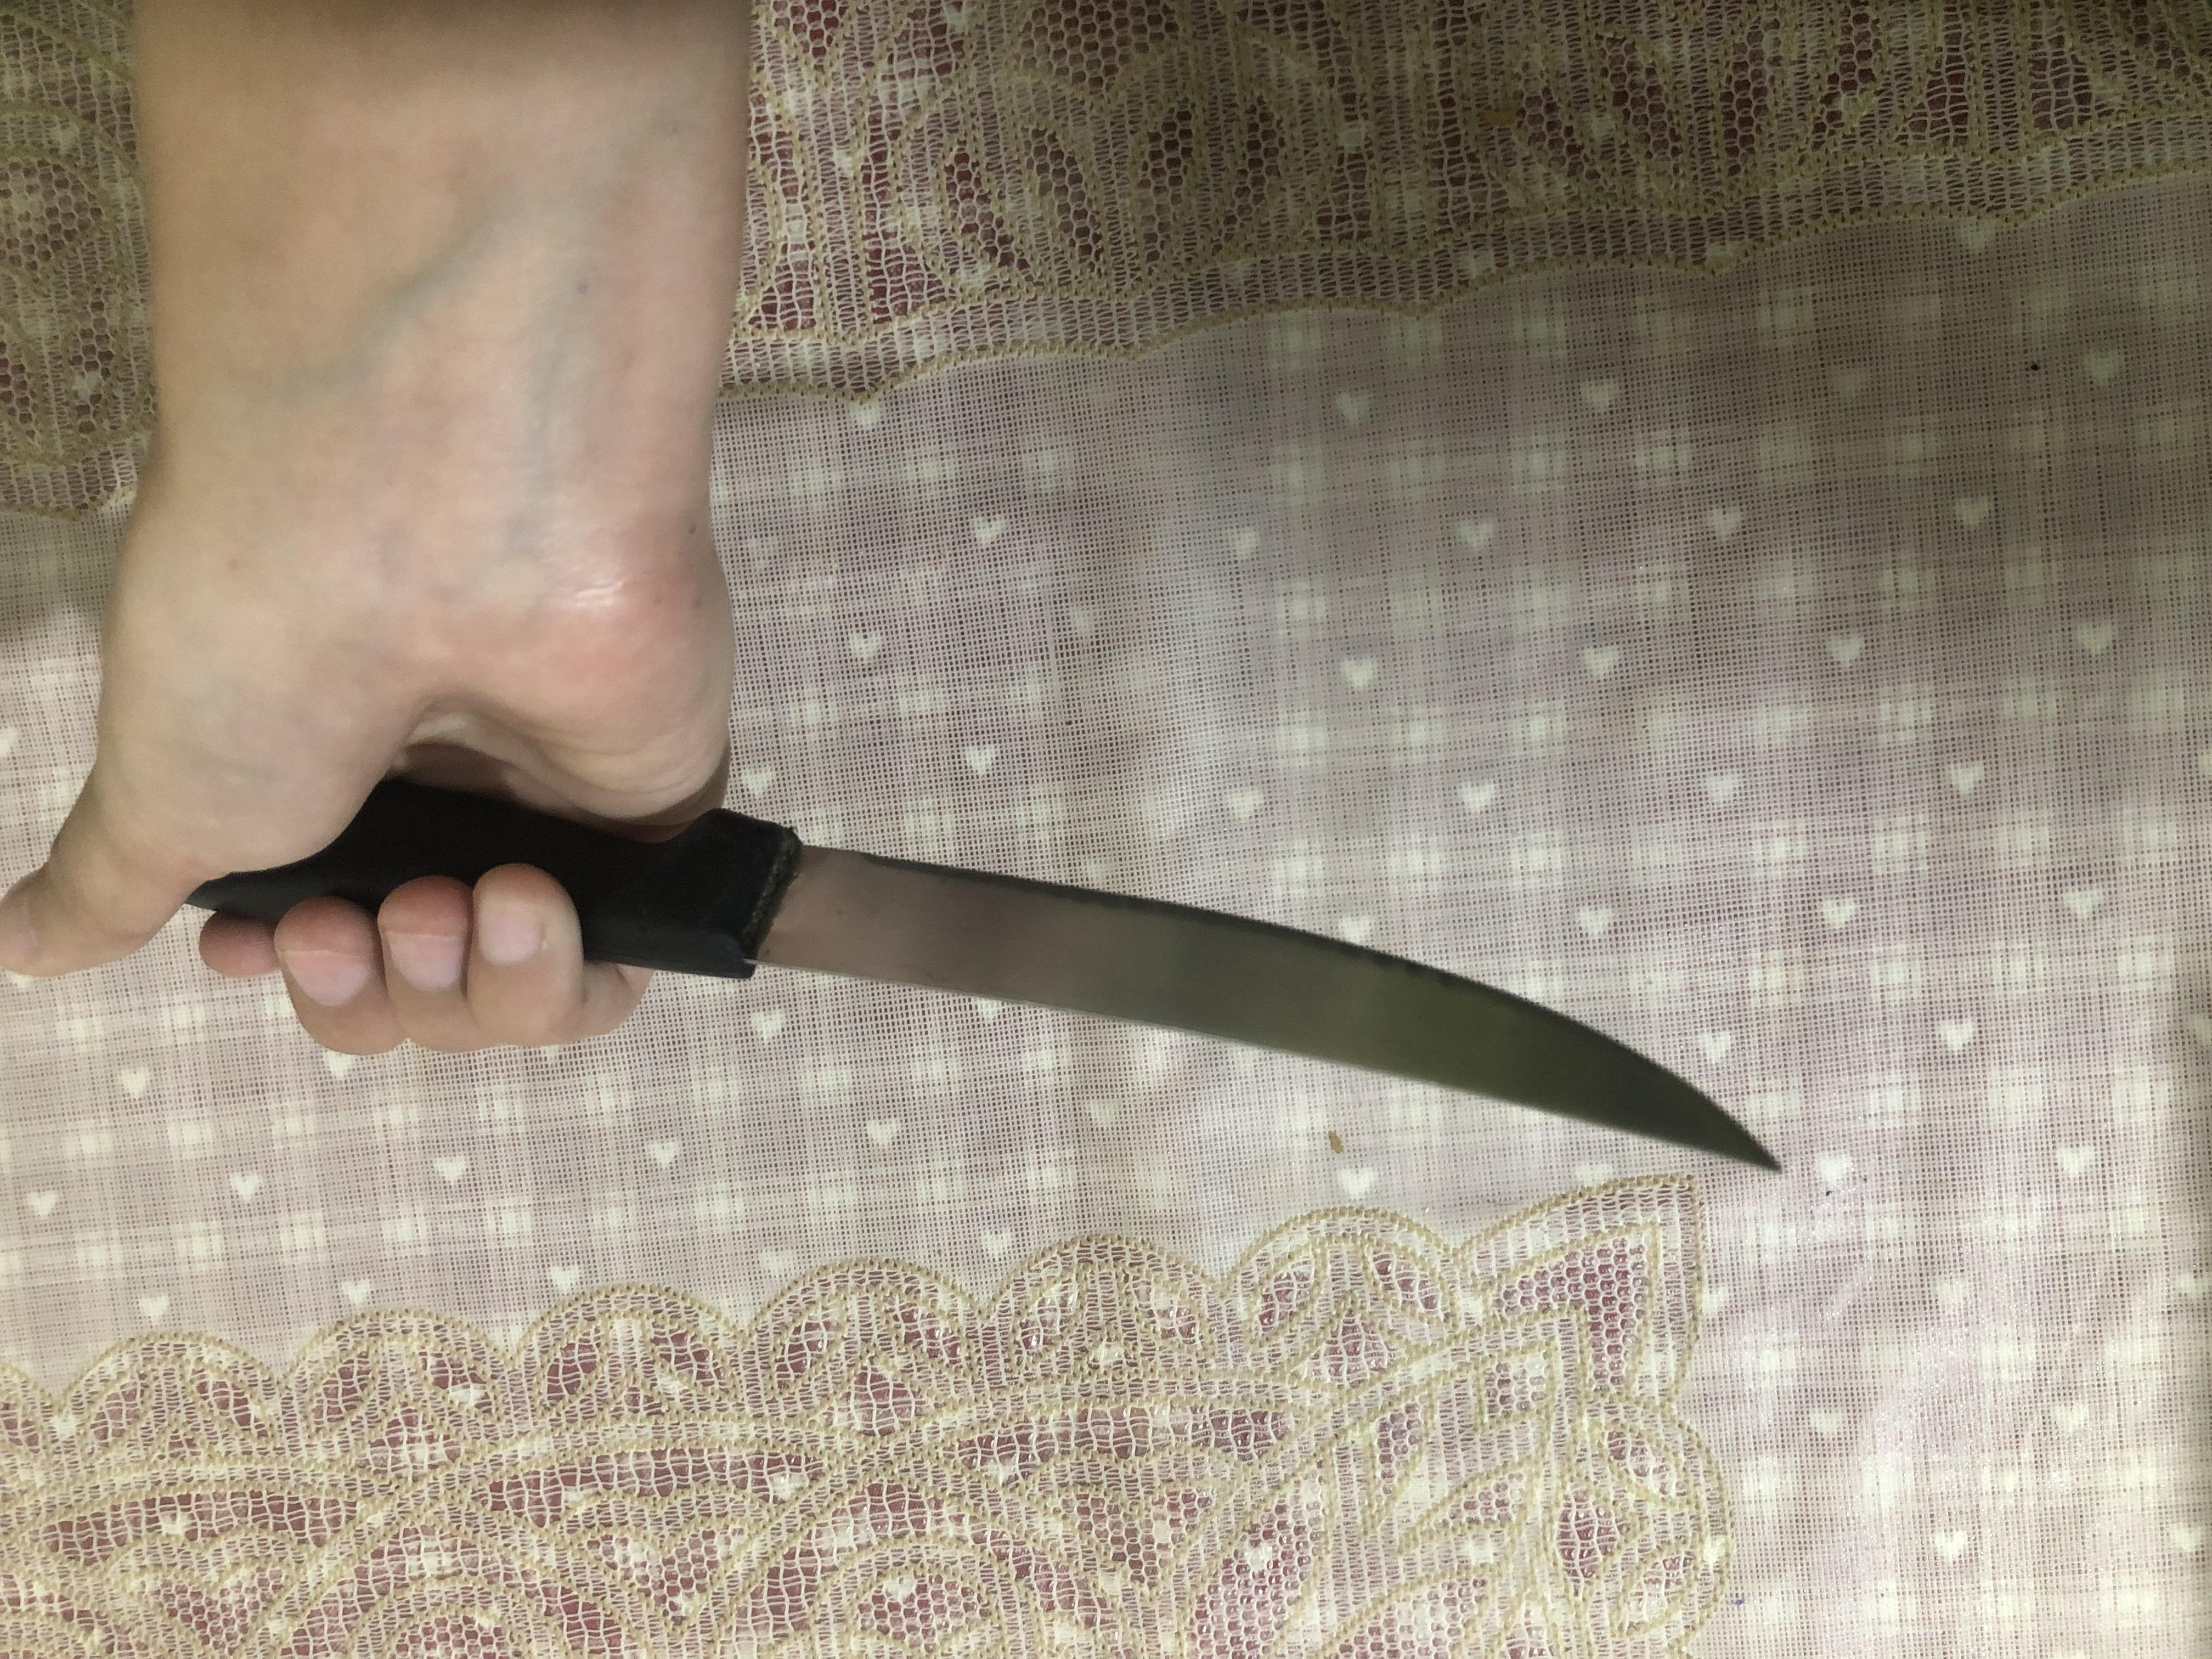weapon: (636, 134, 1163, 1338)
